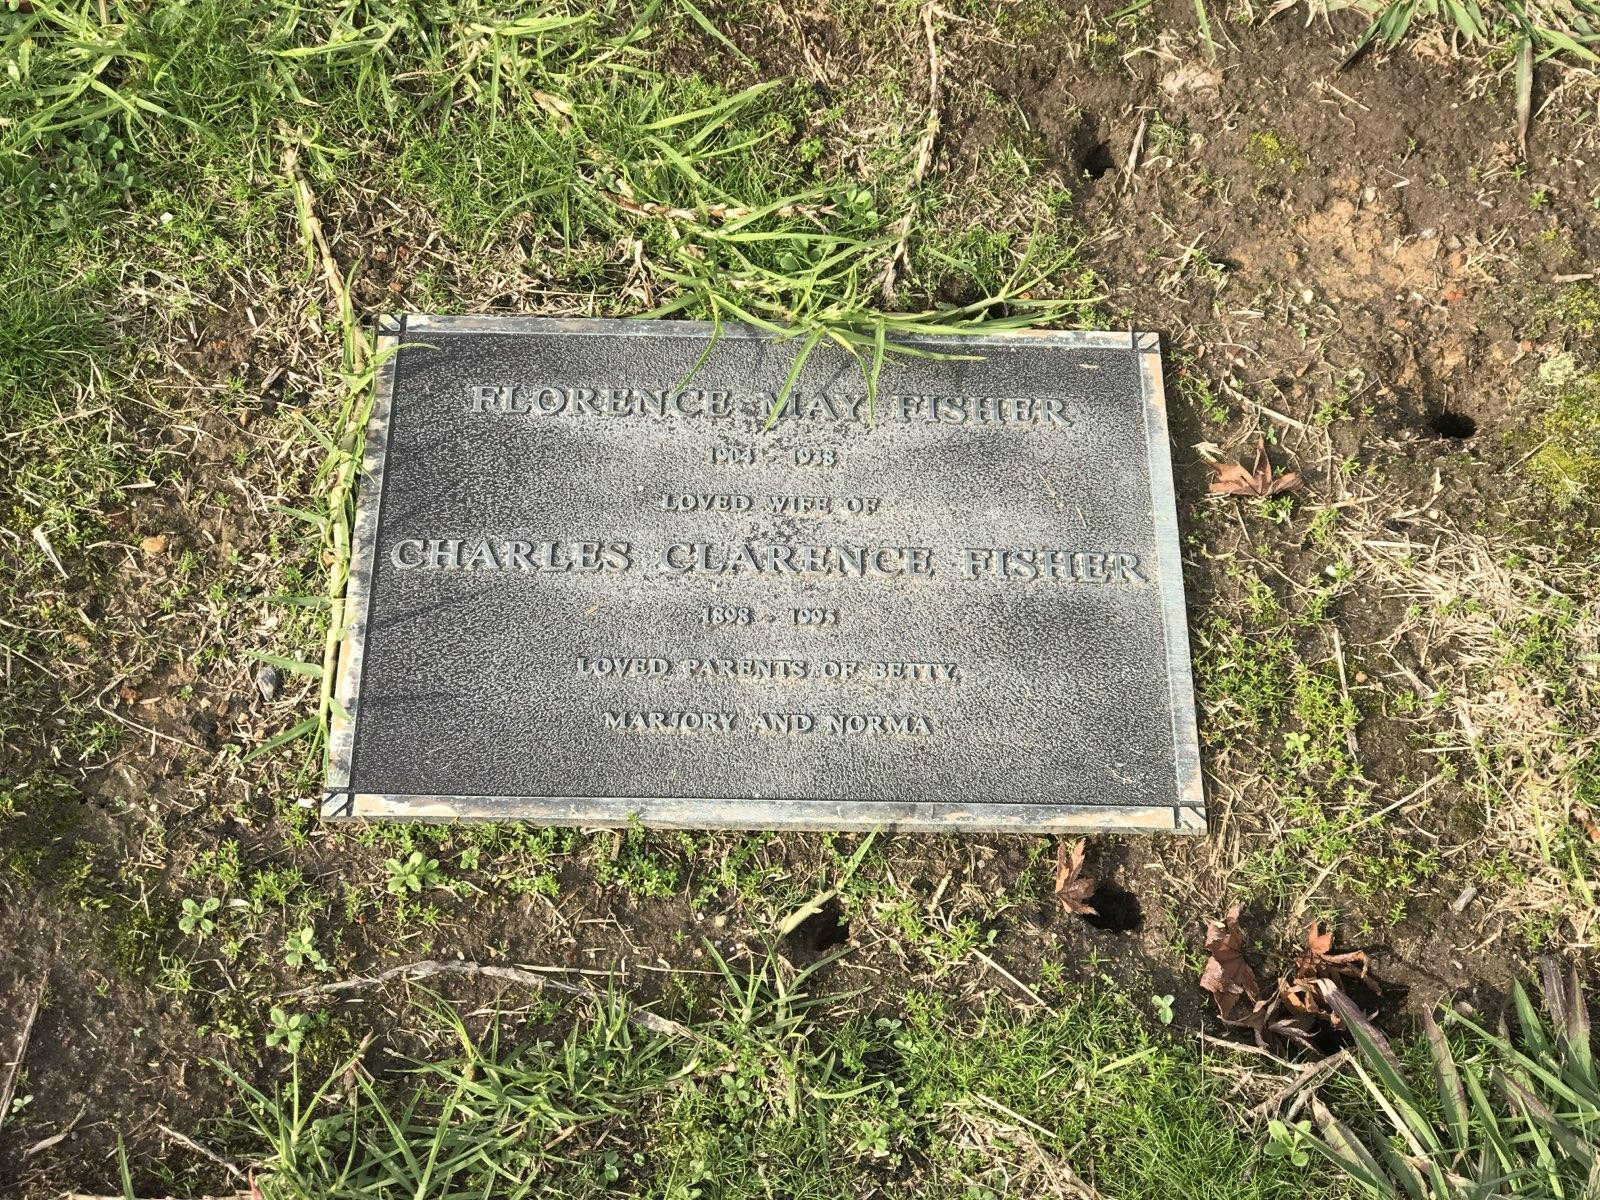flat: (324, 303, 1214, 839)
